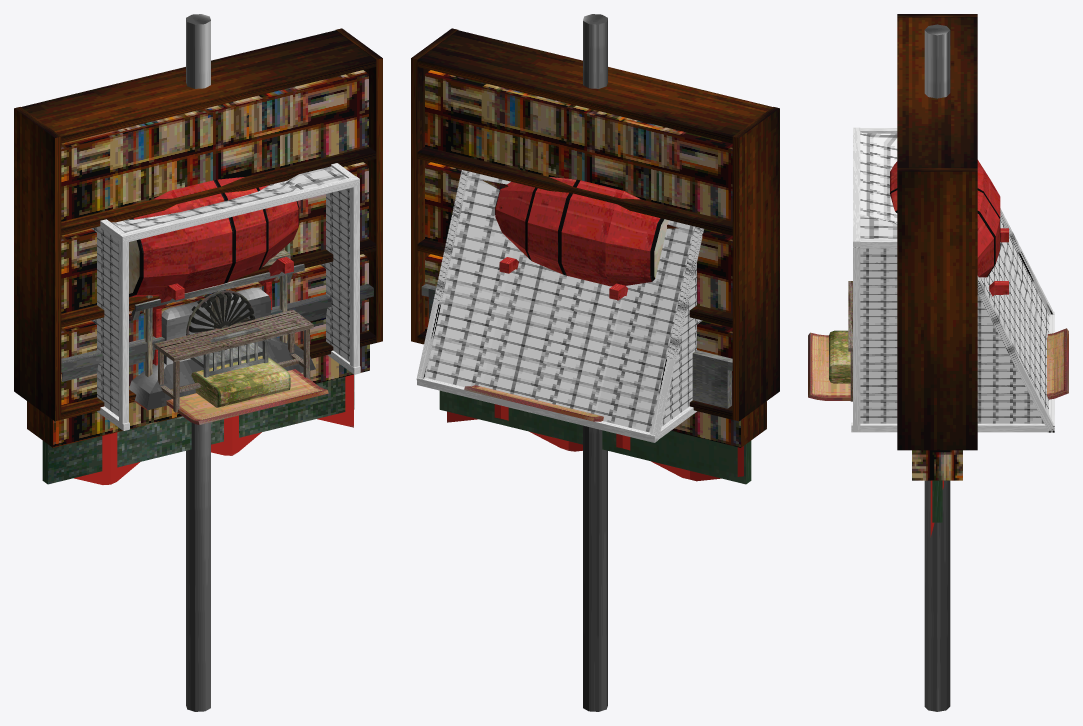
File: School.fbx
3 views of the same model, side by side, from view 1: azimuth 30°, elevation 25°; view 2: azimuth 150°, elevation 25°; view 3: azimuth 270°, elevation 25° (orthographic).
Visible parts, largest first — view 1: KeSach, KhungThanh, Trong, CotCo, BangPhan, ChongSach, BoMenGoi, BucCo, Cube.116, LaCo, MangNuoc, QuatTreo (+3 smaller); view 2: KeSach, KhungThanh, Trong, CotCo, BangPhan, MangNuoc, ChongSach, LaCo, BoMenGoi; view 3: KeSach, KhungThanh, CotCo, BoMenGoi, Trong, ChongSach, Cube.116, BangPhan.
Boxes of the visible parts, bbox=[...] form: KeSach: bbox=[14, 28, 382, 421]; KhungThanh: bbox=[91, 163, 360, 430]; Trong: bbox=[129, 177, 299, 365]; CotCo: bbox=[186, 14, 210, 711]; BangPhan: bbox=[42, 375, 354, 484]; ChongSach: bbox=[27, 297, 369, 447]; BoMenGoi: bbox=[166, 355, 328, 424]; BucCo: bbox=[129, 287, 315, 410]; Cube.116: bbox=[141, 248, 313, 412]; LaCo: bbox=[74, 374, 353, 484]; MangNuoc: bbox=[61, 284, 373, 381]; QuatTreo: bbox=[186, 290, 255, 352]; KeSach: bbox=[411, 28, 779, 421]; KhungThanh: bbox=[416, 170, 703, 442]; Trong: bbox=[495, 177, 668, 300]; CotCo: bbox=[583, 14, 607, 711]; BangPhan: bbox=[439, 390, 751, 484]; MangNuoc: bbox=[421, 284, 732, 408]; ChongSach: bbox=[671, 401, 766, 447]; LaCo: bbox=[447, 404, 743, 481]; BoMenGoi: bbox=[464, 385, 603, 421]; KeSach: bbox=[897, 14, 977, 450]; KhungThanh: bbox=[851, 127, 1054, 432]; CotCo: bbox=[924, 24, 950, 711]; BoMenGoi: bbox=[808, 328, 1068, 400]; Trong: bbox=[890, 160, 1008, 296]; ChongSach: bbox=[912, 450, 962, 480]; Cube.116: bbox=[848, 281, 852, 401]; BangPhan: bbox=[932, 480, 942, 522].
Size of the model in its own units: 450 by 901 by 315.
Materials: 19 (19 with a texture image).
